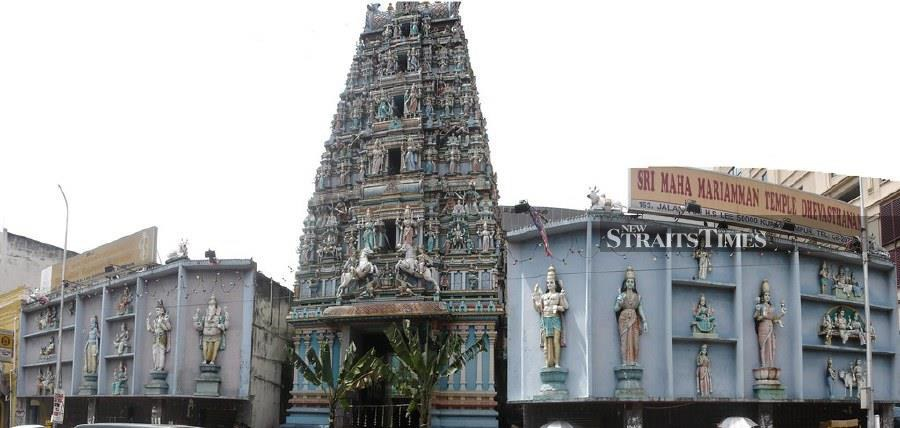Hindu Temple: (266, 1, 508, 399)
